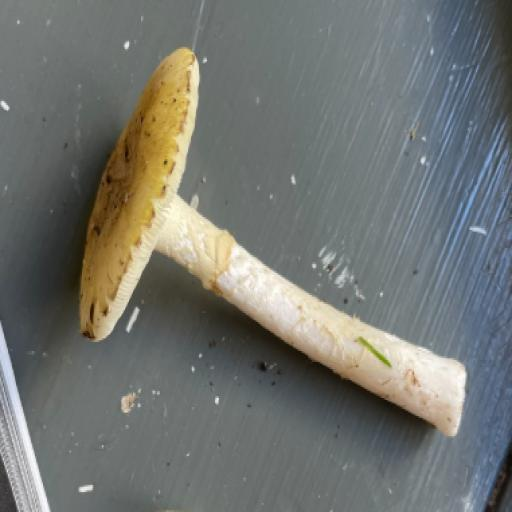Death Cap: (56, 40, 512, 447)
